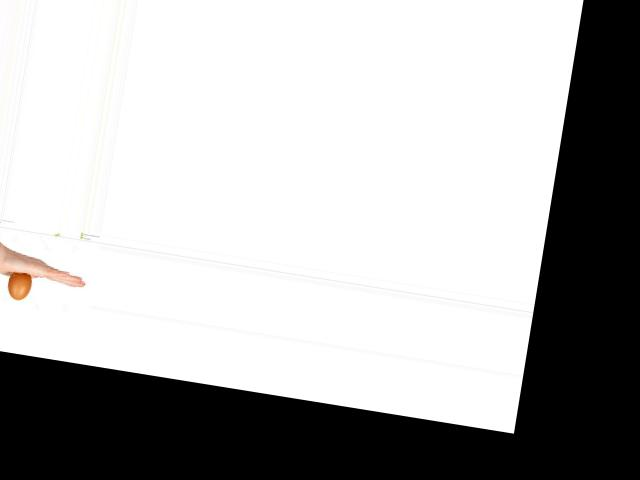egg: (6, 270, 33, 301)
